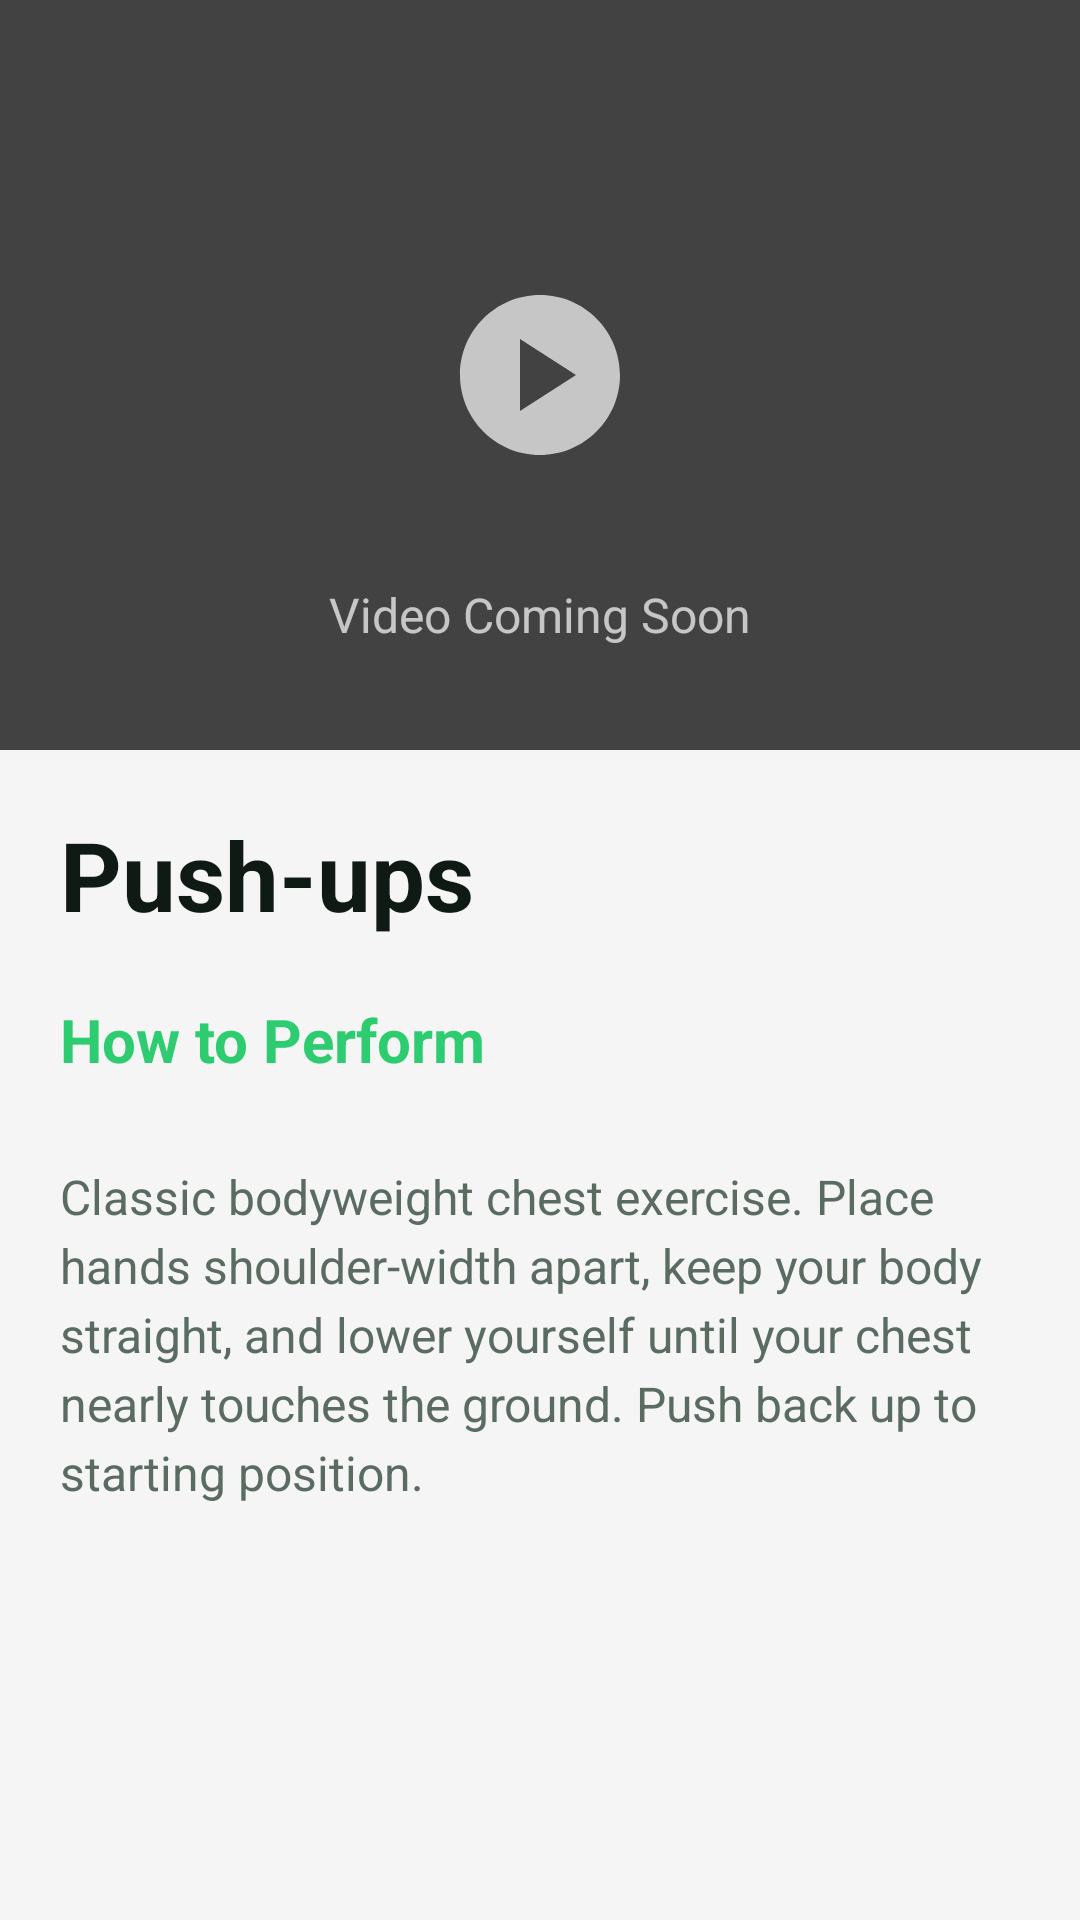

Icons on this 1080w x 1920h Android screen, each with the point to tap as (x=x, y=y):
Video placeholder: (x=540, y=375)
